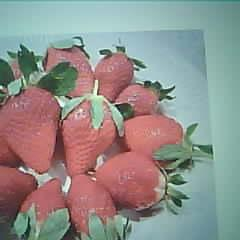straw-ripe: (0, 88, 60, 173), (61, 94, 116, 177), (99, 152, 168, 209)
